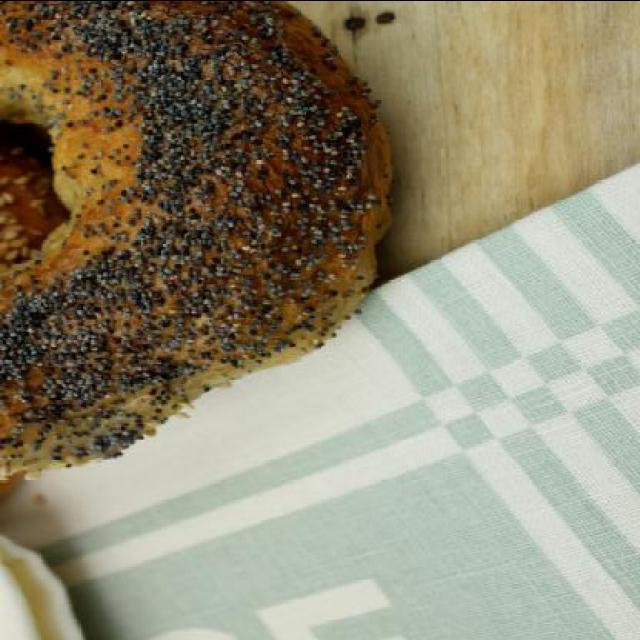Bagel: (3, 0, 396, 479)
